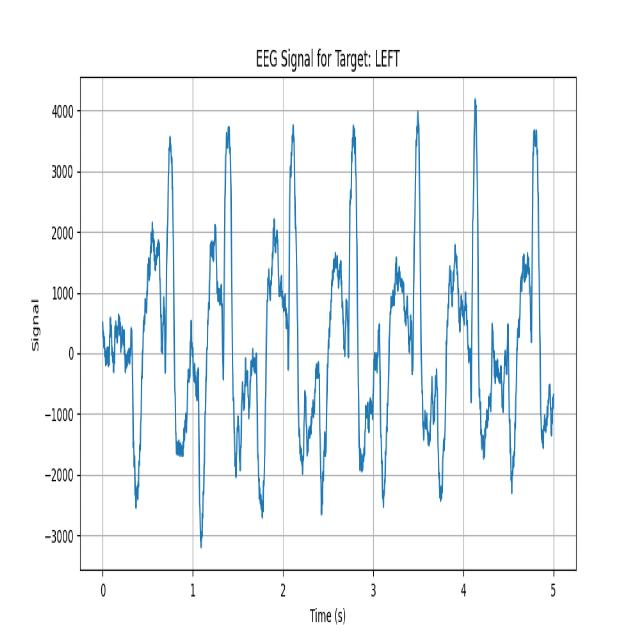LEFT: (374, 110, 445, 541), (246, 109, 311, 538), (310, 110, 375, 534), (445, 85, 505, 530), (129, 108, 191, 512), (190, 108, 245, 554), (506, 103, 555, 532)
